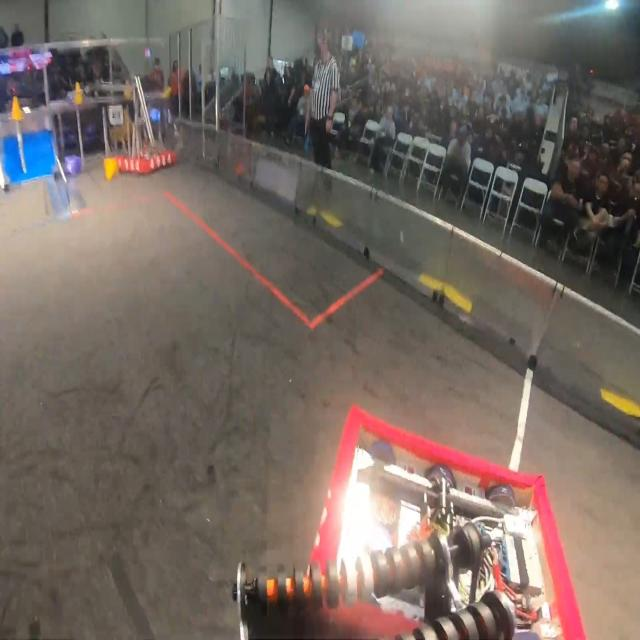robot: (302, 401, 586, 640), (90, 74, 178, 175)
